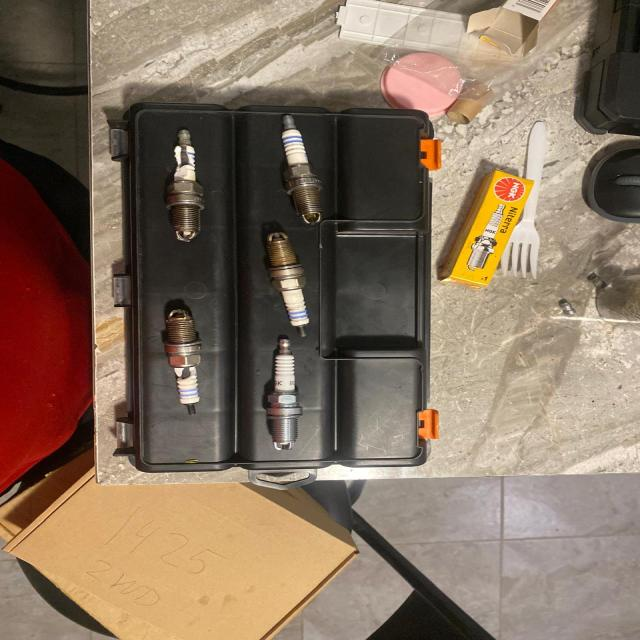damaged_spark-plug: (158, 308, 208, 418), (169, 125, 207, 244)
spark-plug: (279, 111, 322, 227), (269, 231, 313, 337), (264, 337, 300, 453)
